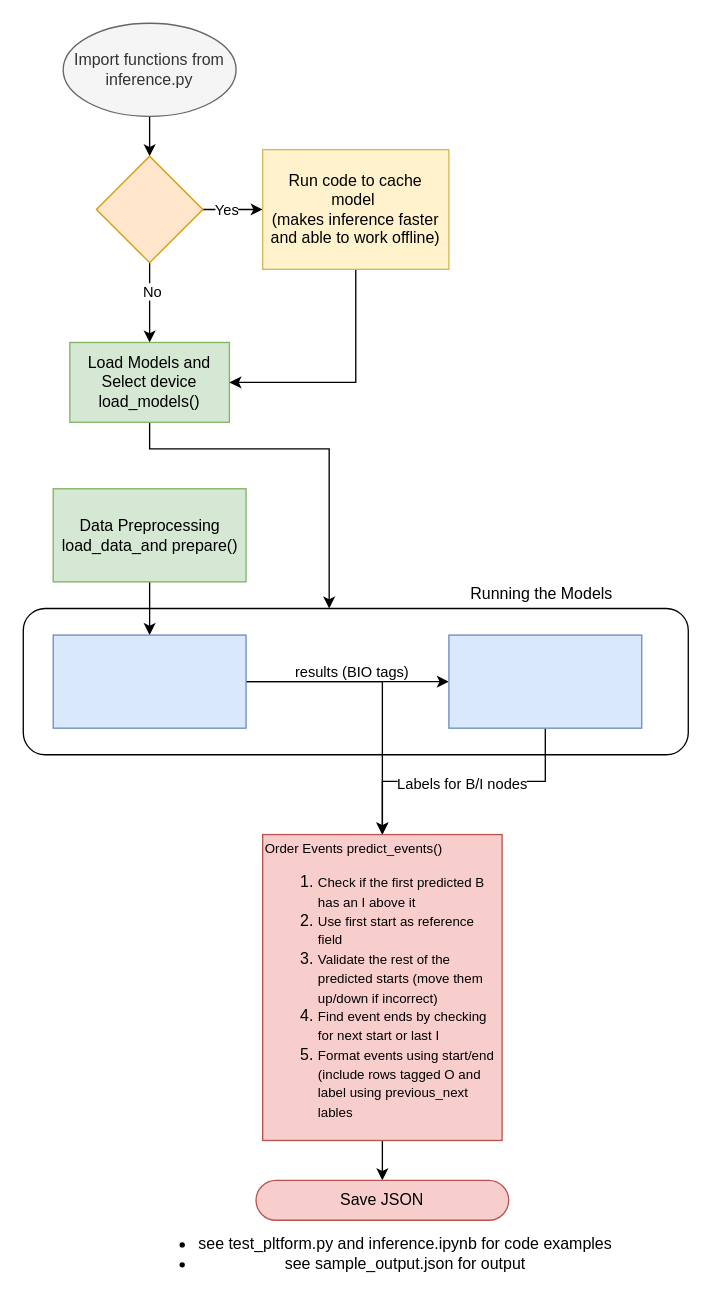
The diagram is 712 pixels wide and 1311 high, and some of its shapes have lost their labels. Here are the shapes that lost their labels. From the top down, the centre of each, then its label:
pixel 149 209: First Run?
pixel 149 681: Boundary Model run_dom_extractor()
pixel 545 681: Field Classifier run_field_classifier()
